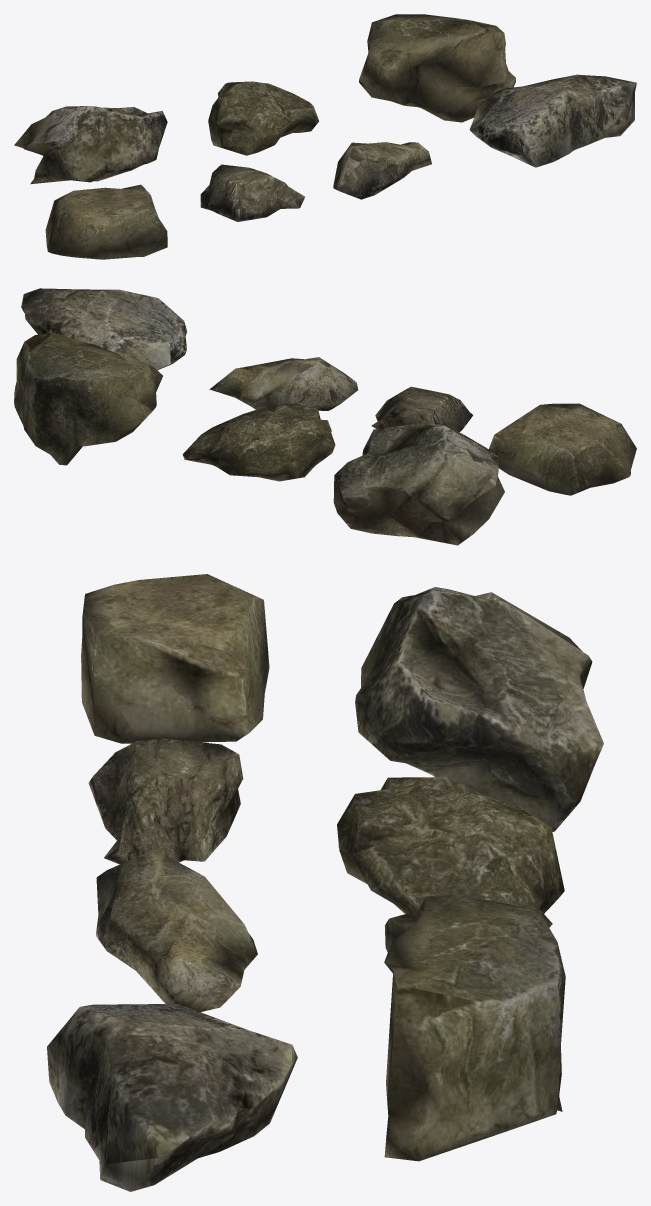
Rendered from rock_moss_set_02.glb.
The picture shows the model from 3 angles, top to bottom: view 1: azimuth 30°, elevation 25°; view 2: azimuth 150°, elevation 25°; view 3: azimuth 270°, elevation 25°; orthographic projection. The views are drawn at different scales.
Visible parts, largest first — view 1: rock_moss_set_02_rock08; view 2: rock_moss_set_02_rock08; view 3: rock_moss_set_02_rock08.
Part boxes in pixels (left/top/right/bottom): rock_moss_set_02_rock08: left=14, top=14, right=636, bottom=259; rock_moss_set_02_rock08: left=14, top=288, right=636, bottom=545; rock_moss_set_02_rock08: left=47, top=574, right=603, bottom=1191.
Bounding box in the file's own units: 8.27 × 1.36 × 3.41.
Materials: 1 (1 with a texture image).
